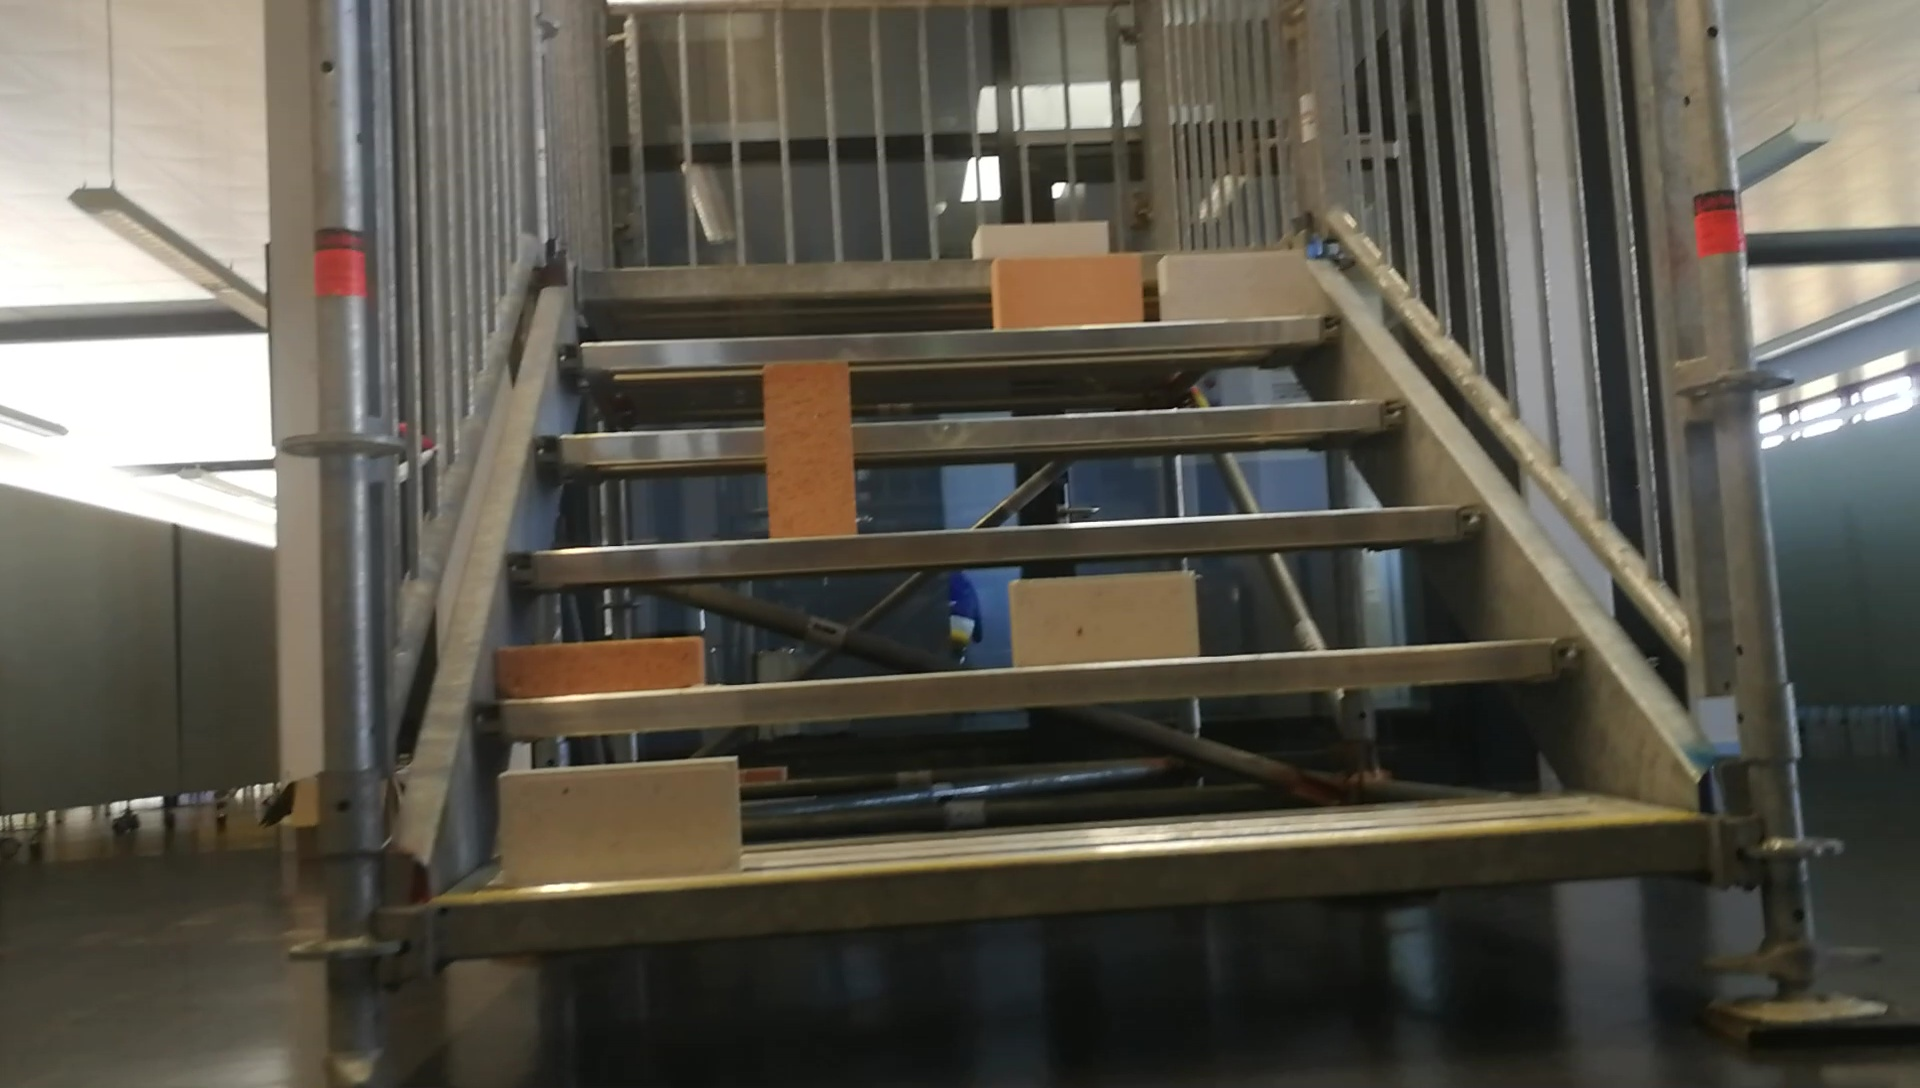brick: (502, 758, 740, 881), (1007, 575, 1197, 661), (764, 357, 849, 535), (500, 633, 702, 694), (992, 257, 1141, 327), (1159, 255, 1300, 320), (975, 226, 1108, 255)
edge: (436, 814, 1700, 953), (472, 638, 1582, 736), (506, 502, 1484, 586), (538, 398, 1404, 460), (555, 317, 1345, 367)
steps: (429, 208, 1721, 982)
